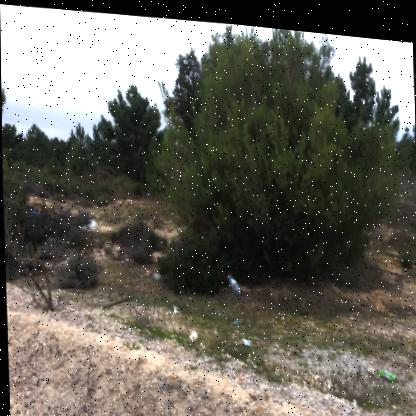Paper: (378, 361, 395, 373)
Plastic: (225, 268, 240, 289)
Waste: (240, 332, 252, 341), (231, 313, 237, 319), (237, 286, 240, 289)
